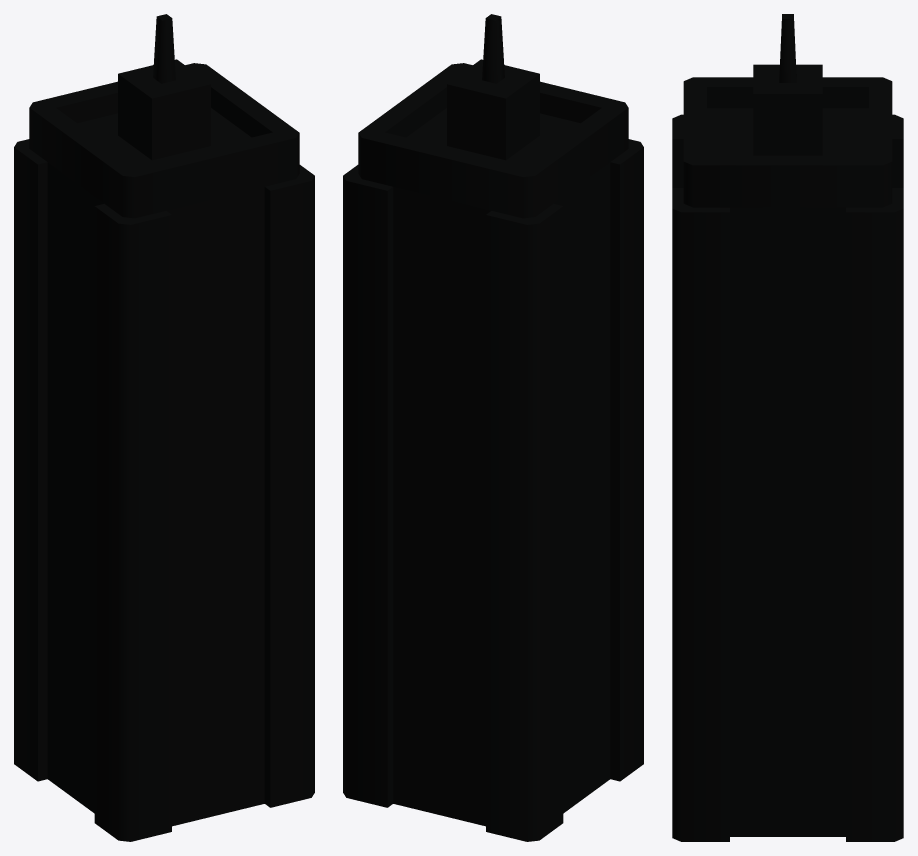
The model's file is low-detail-building-l.glb.
The picture shows the model from 3 angles, left to right: view 1: azimuth 30°, elevation 25°; view 2: azimuth 150°, elevation 25°; view 3: azimuth 270°, elevation 25°; orthographic projection. The views are drawn at different scales.
Parts seen in each view (by area): view 1: low-detail-building-l; view 2: low-detail-building-l; view 3: low-detail-building-l.
Part boxes in pixels (x1,y1,x2,y2): low-detail-building-l: (14, 14, 314, 841); low-detail-building-l: (343, 14, 643, 841); low-detail-building-l: (672, 14, 903, 841).
Size of the model in its own units: 0.4998 by 1.85 by 0.4998.
Materials: 1 (1 with a texture image).
